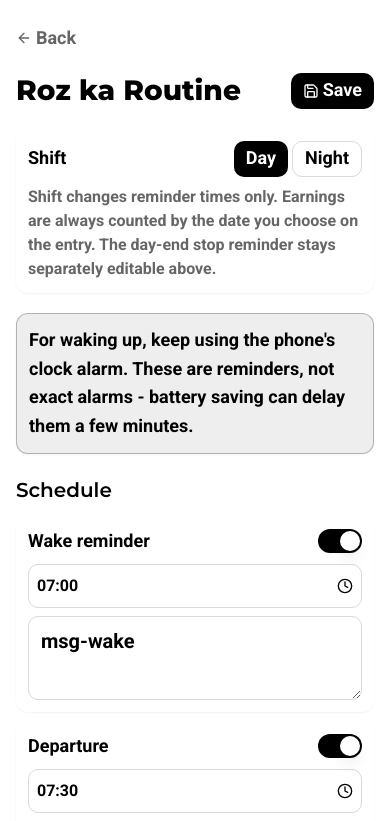
Test case: RoutinePage save vs scheduling › scheduling failure does NOT turn the save into a failure
What coordinates should you click on to do the following:
click the button "Save"
I would click on:
 (332, 91)
Its box is [291,73,374,109].
(page scrolled)
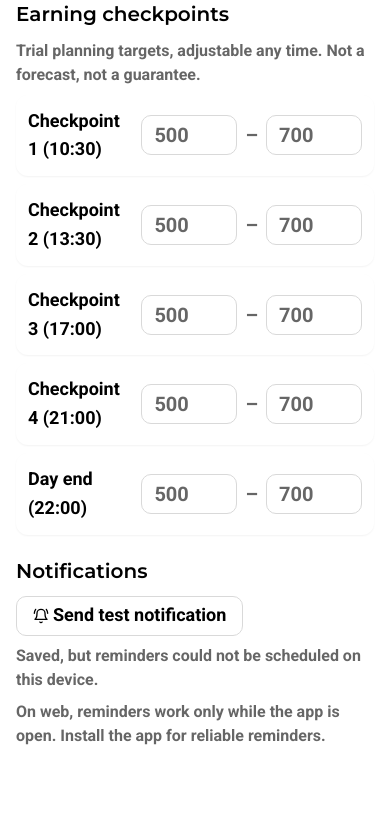
Check: the text "Saved, but reminders could not be scheduled on this device." is shown, box [16,644,374,692]
